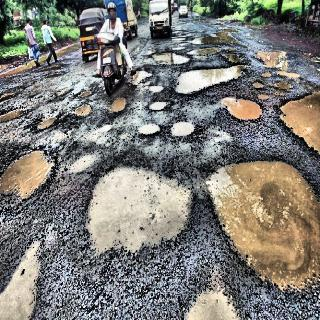pothole: (210, 153, 320, 282), (86, 163, 198, 267), (2, 141, 72, 210), (271, 75, 320, 139), (174, 59, 251, 96), (199, 3, 243, 42), (224, 92, 261, 131), (128, 112, 161, 155), (166, 116, 204, 148), (256, 40, 296, 70), (147, 47, 192, 67), (34, 108, 66, 134), (0, 102, 29, 130), (72, 101, 97, 131), (38, 59, 66, 83), (189, 40, 223, 57), (145, 90, 168, 114), (106, 96, 128, 118), (72, 85, 102, 101), (1, 81, 24, 101)
